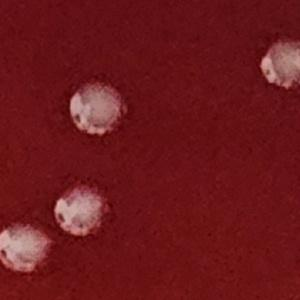colony: (51, 178, 116, 243), (66, 76, 130, 139), (0, 218, 56, 279), (256, 34, 300, 96)
